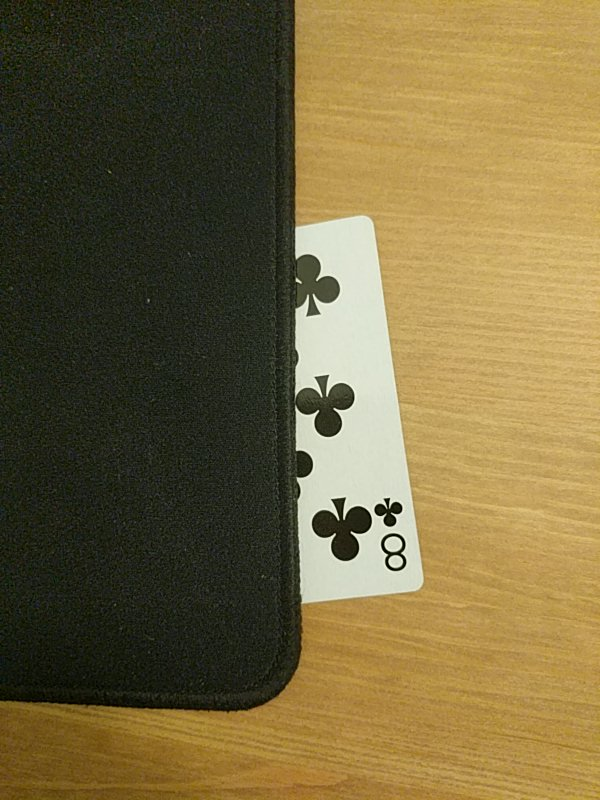Clubs: (295, 216, 425, 603)
